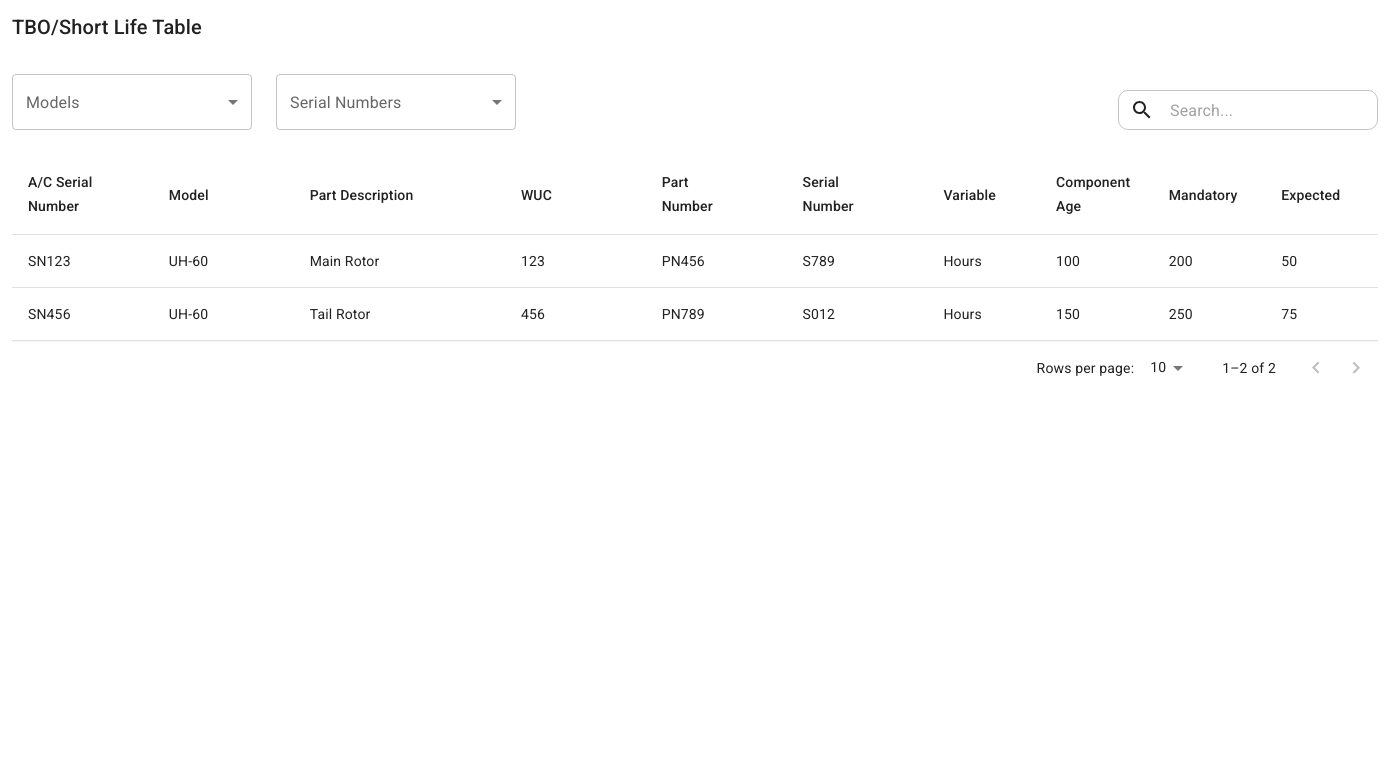
Test: ComponentOverviewTab › handles rows per page changes correctly
The width and height of the screenshot is (1390, 780).
Click the dropdown named "Rows per page:" at (1158, 368), box [1150,360,1166,376]
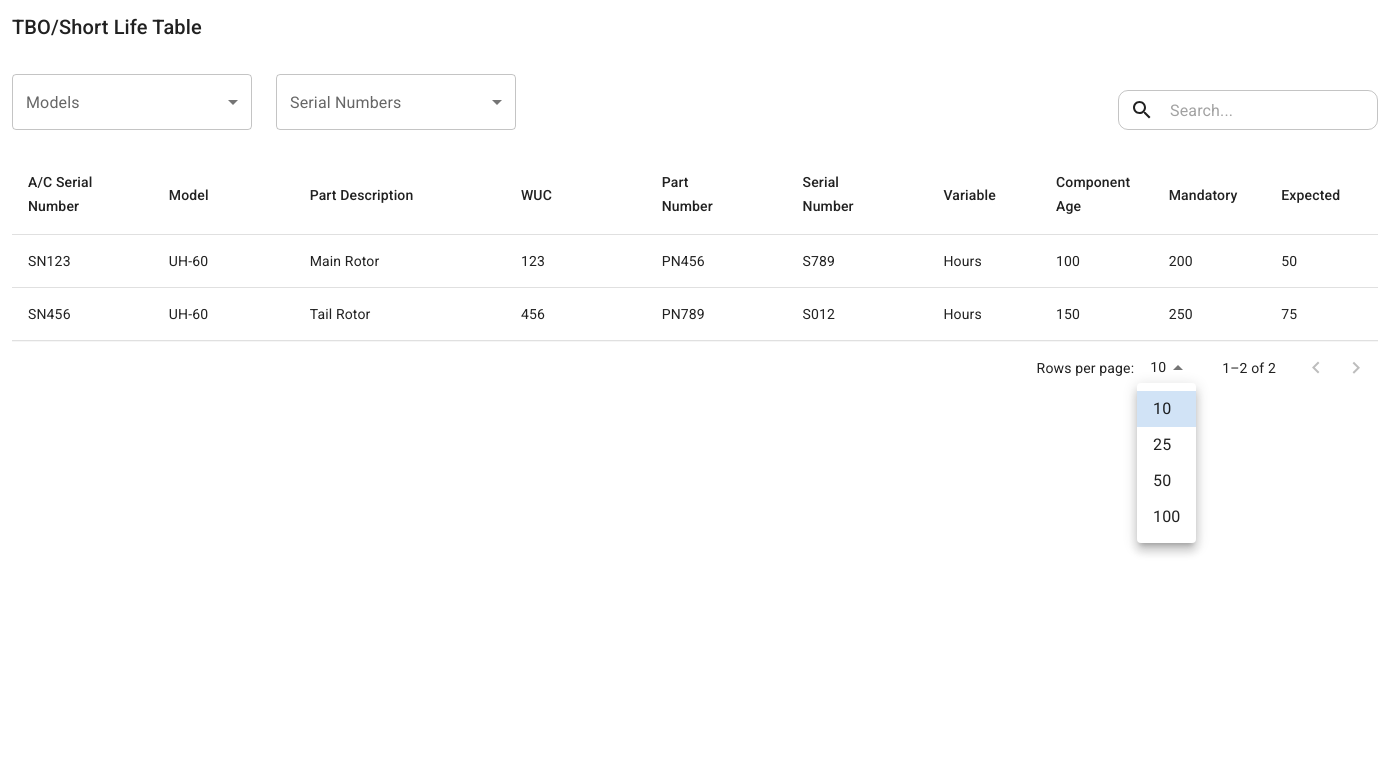
// Find and click the menu item with value 25
Click the option "25" at (1162, 444), box [1153,435,1171,454]
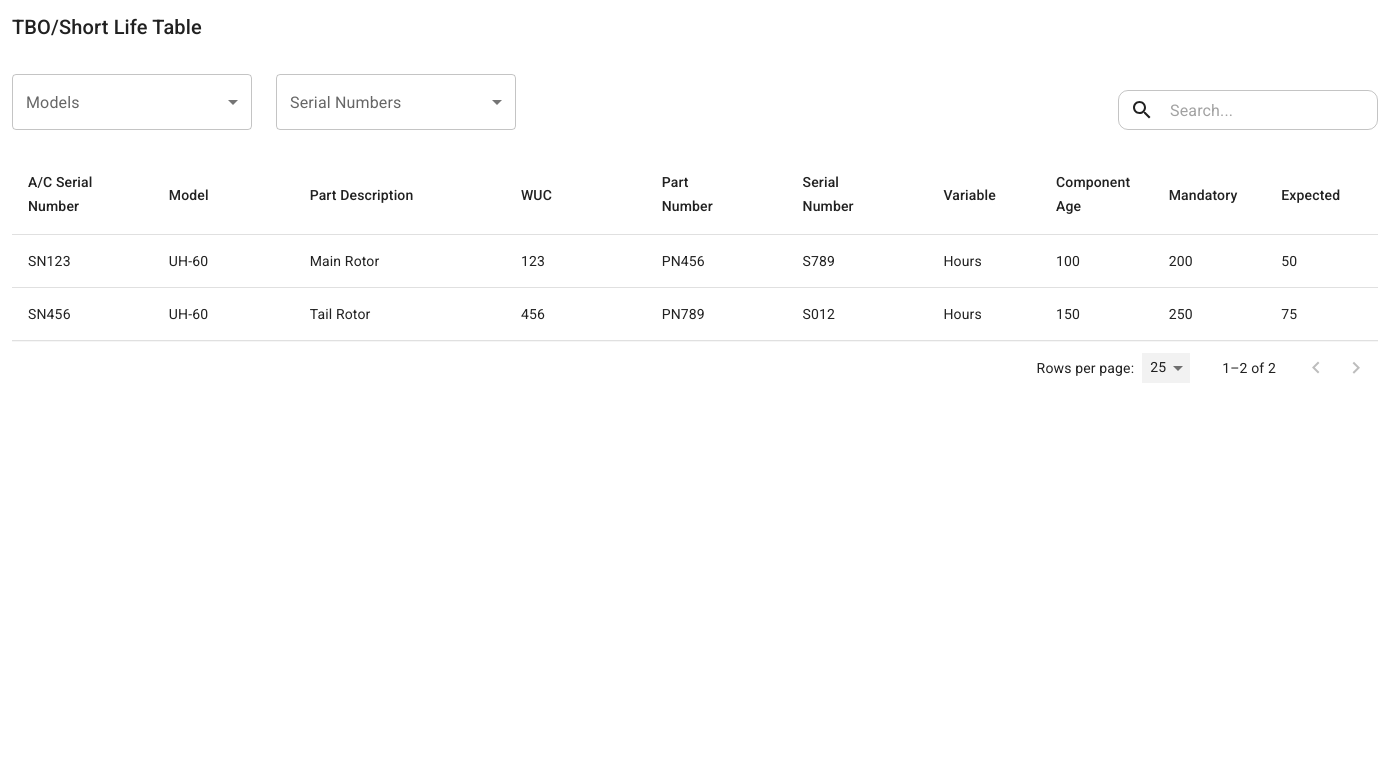
Expected: the dropdown named "Rows per page:" reads "25", [1142,354,1190,383]
